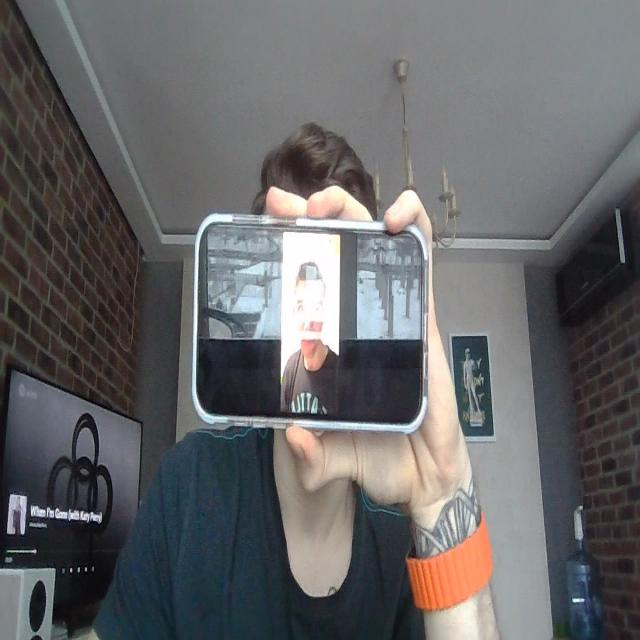device: (187, 203, 439, 456)
